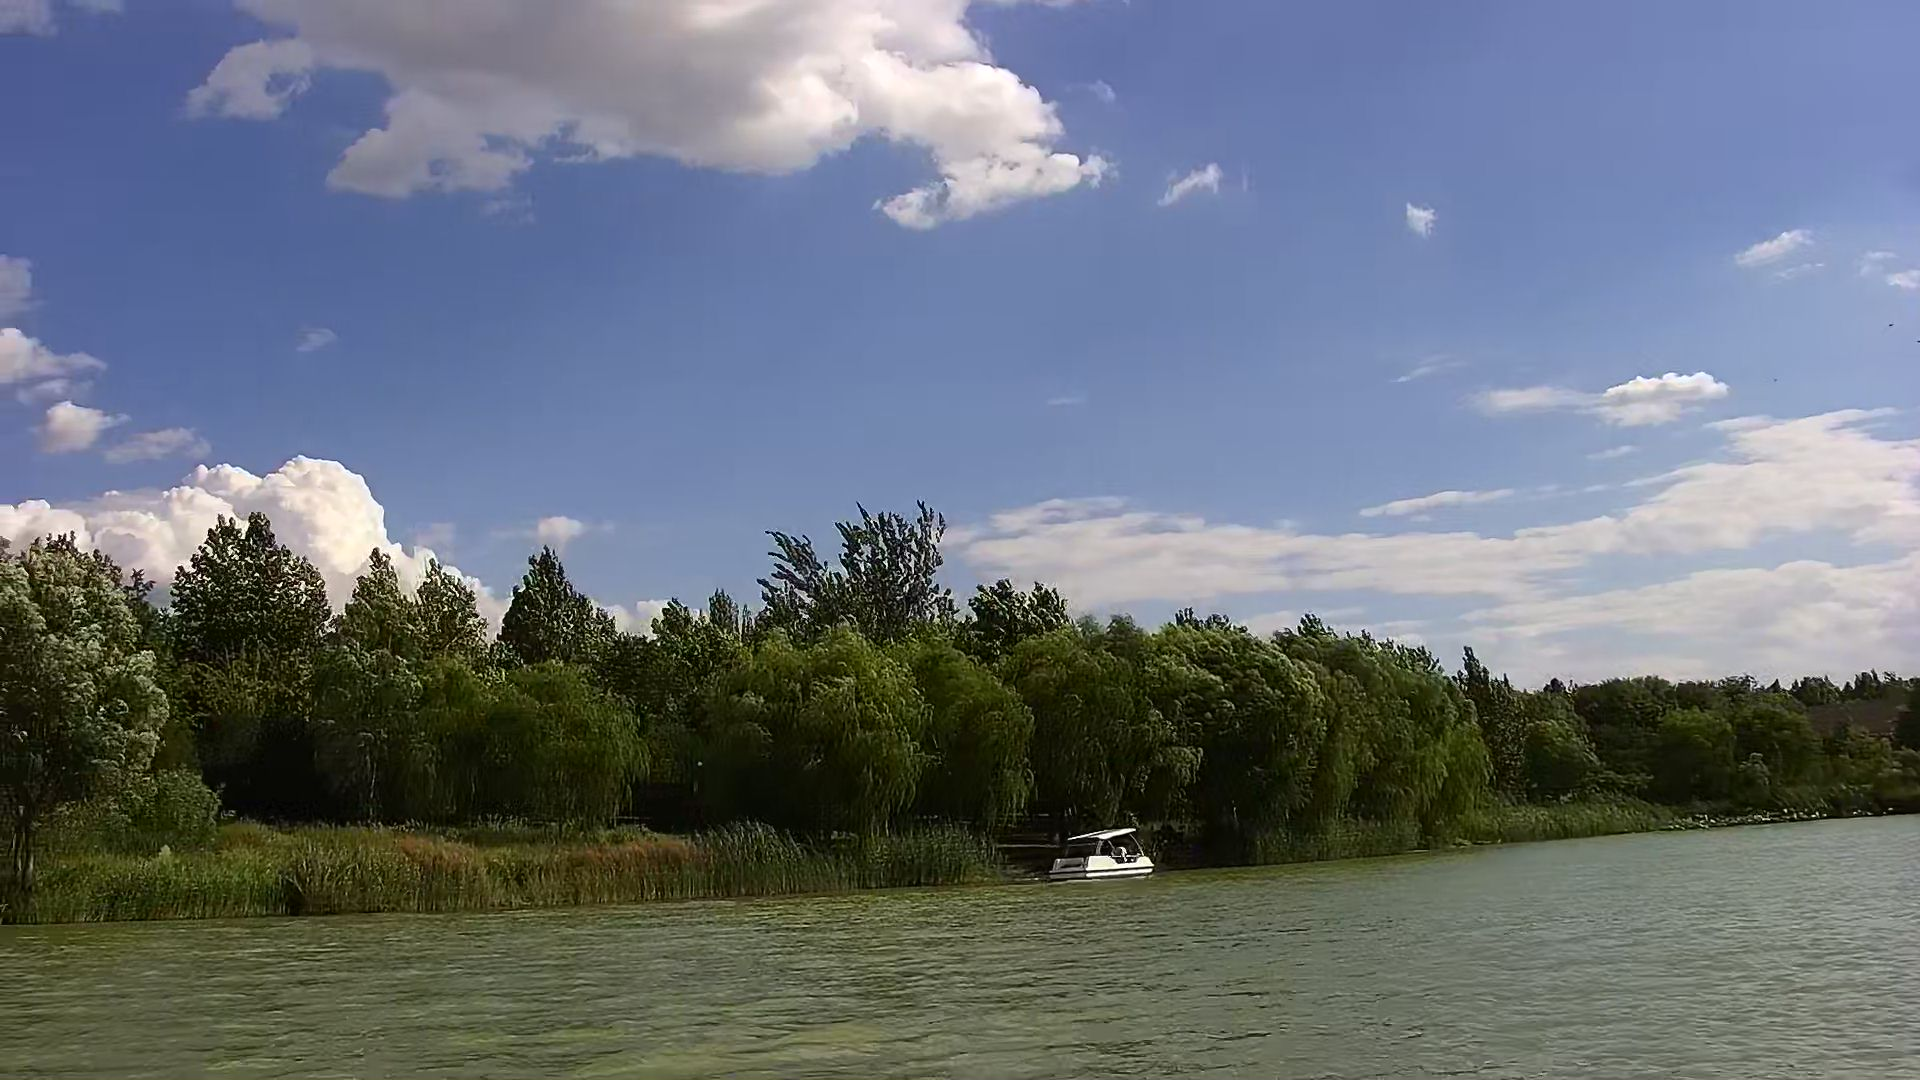boat: (1048, 825, 1156, 880)
